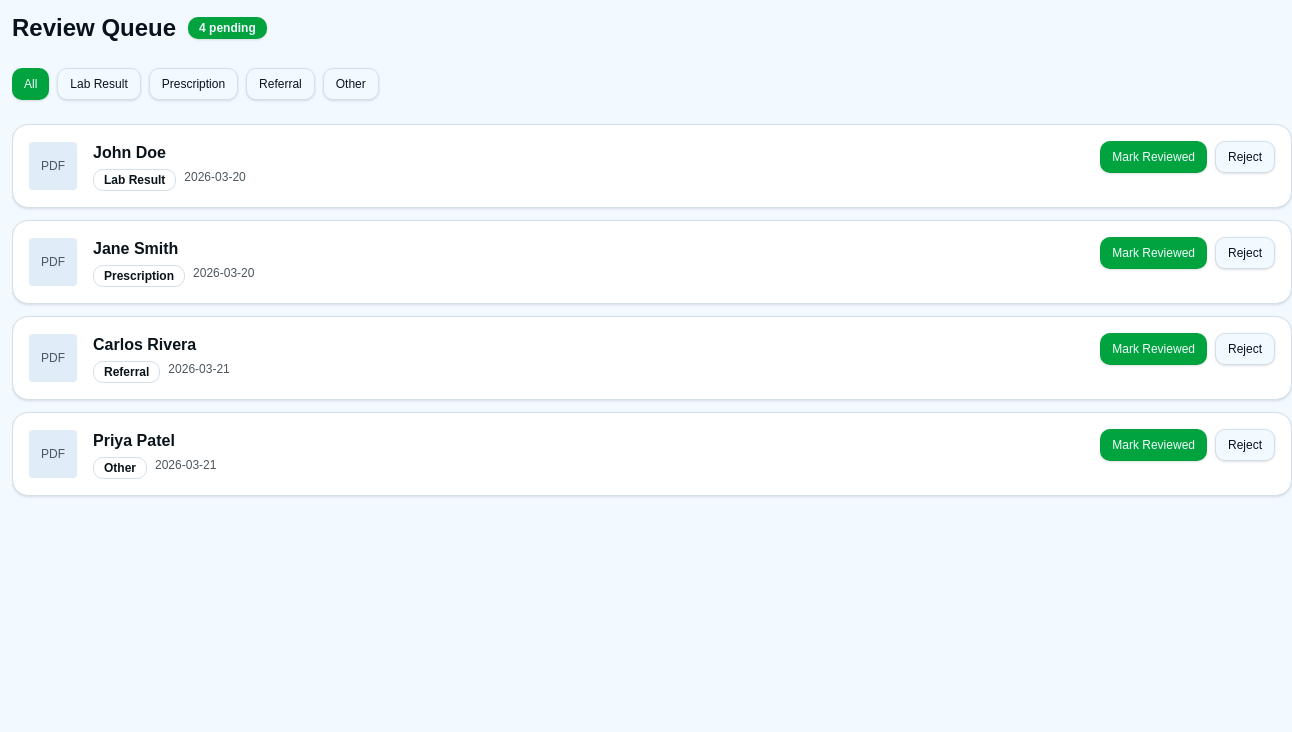
Scenario: ReviewQueuePage › shows reject reason input when Reject clicked
Check: the text "John Doe" is shown, box [93,144,166,161]
Click the button "Reject" in the row of "John Doe". click: (1245, 157)
box: [1215,141,1275,173]
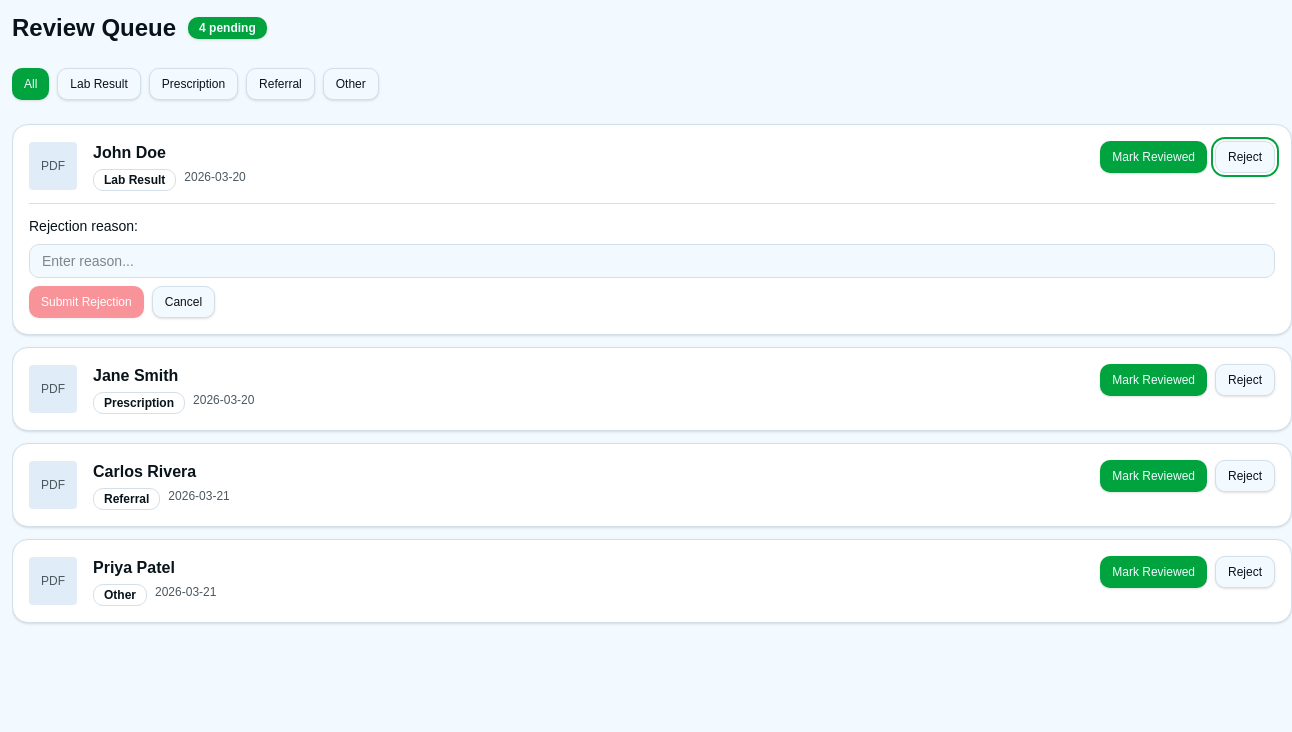
Check: the text "Rejection reason:" is shown, box [29,218,138,234]
